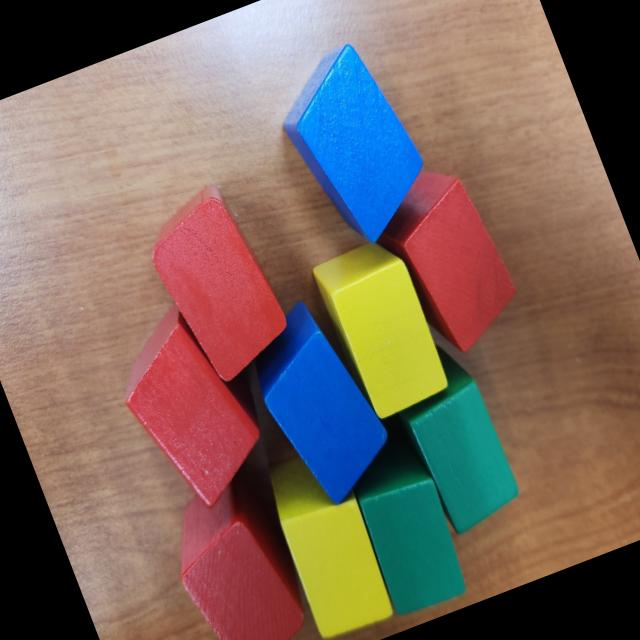blue: (262, 33, 444, 258), (233, 286, 406, 516)
green: (374, 332, 528, 544), (337, 432, 477, 620)
red: (99, 291, 283, 525), (354, 153, 534, 370), (134, 176, 304, 394), (152, 465, 326, 640)
yellow: (255, 440, 401, 640), (309, 232, 456, 424)
